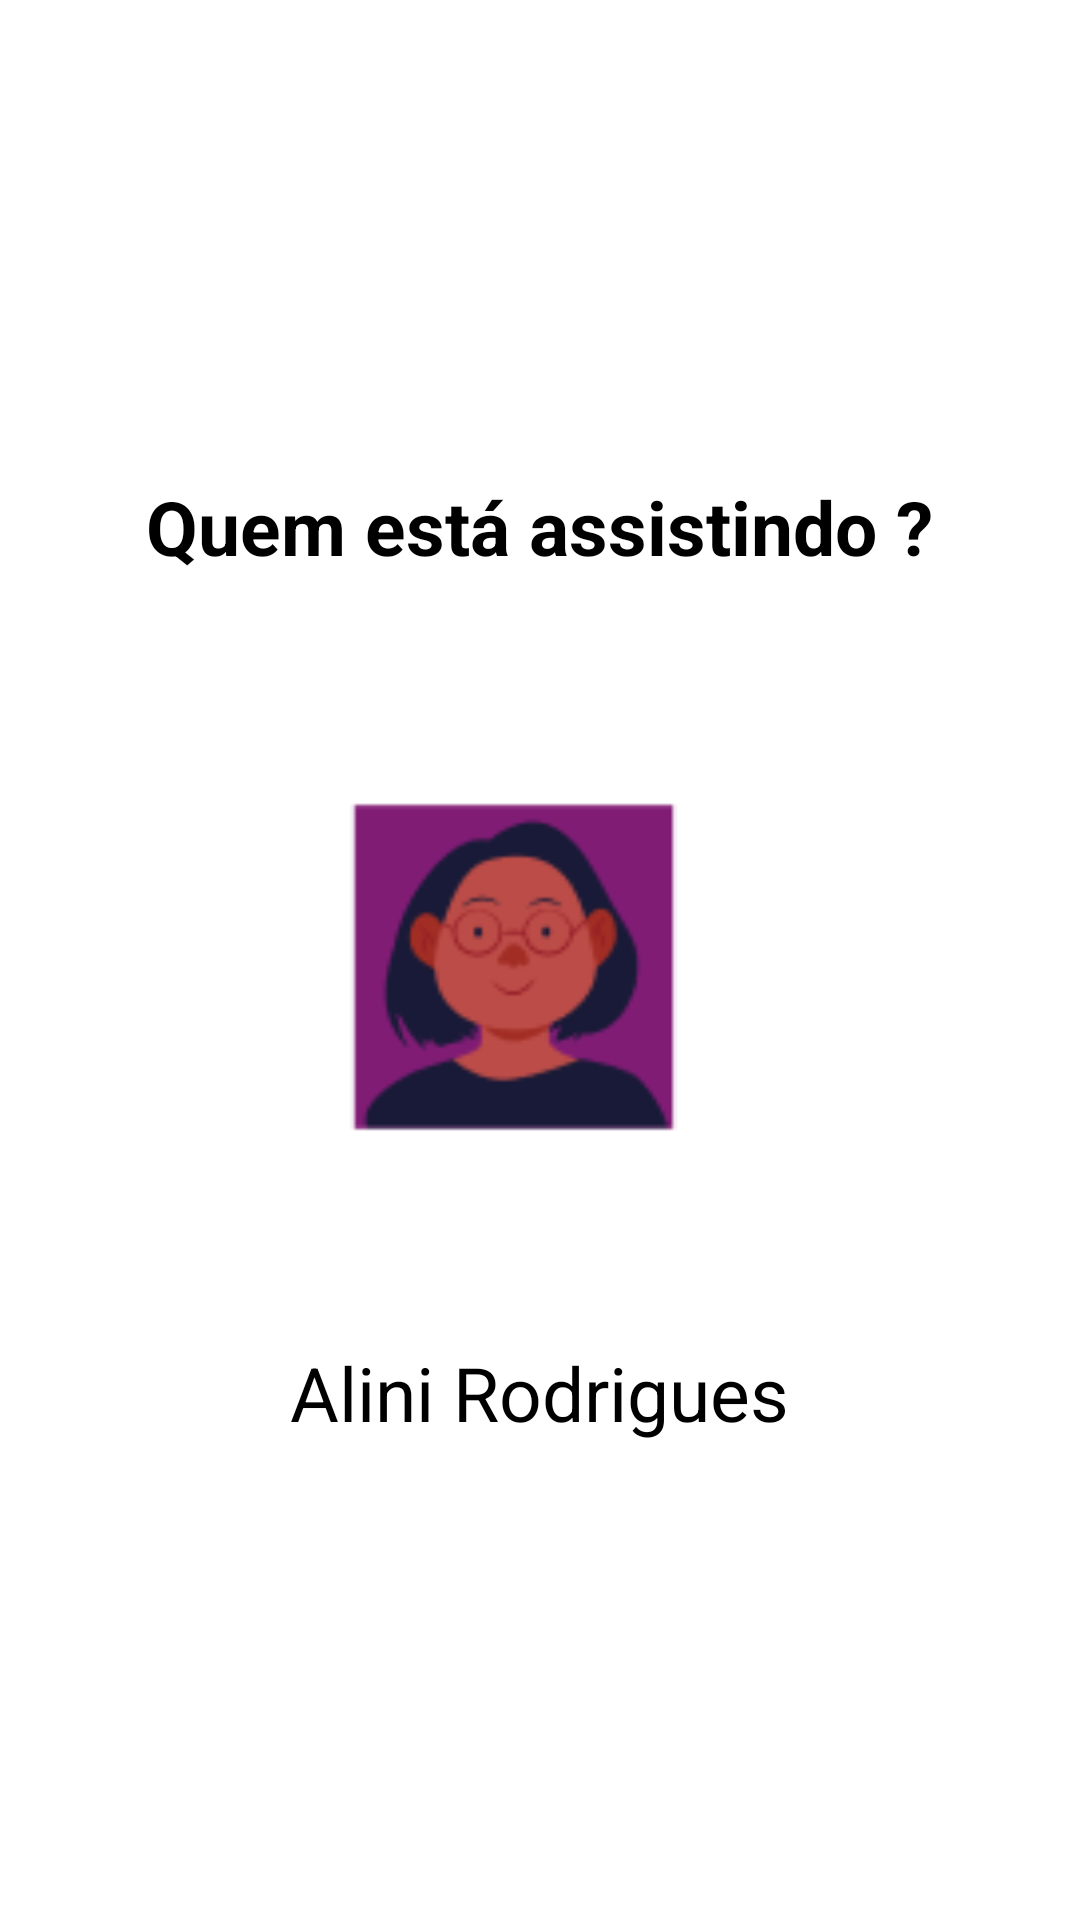

Named icons in this screenshot (1080px×1920px) and their bounding boxes, (x1, y1, x2, y2):
perfil: (352, 803, 675, 1131)
